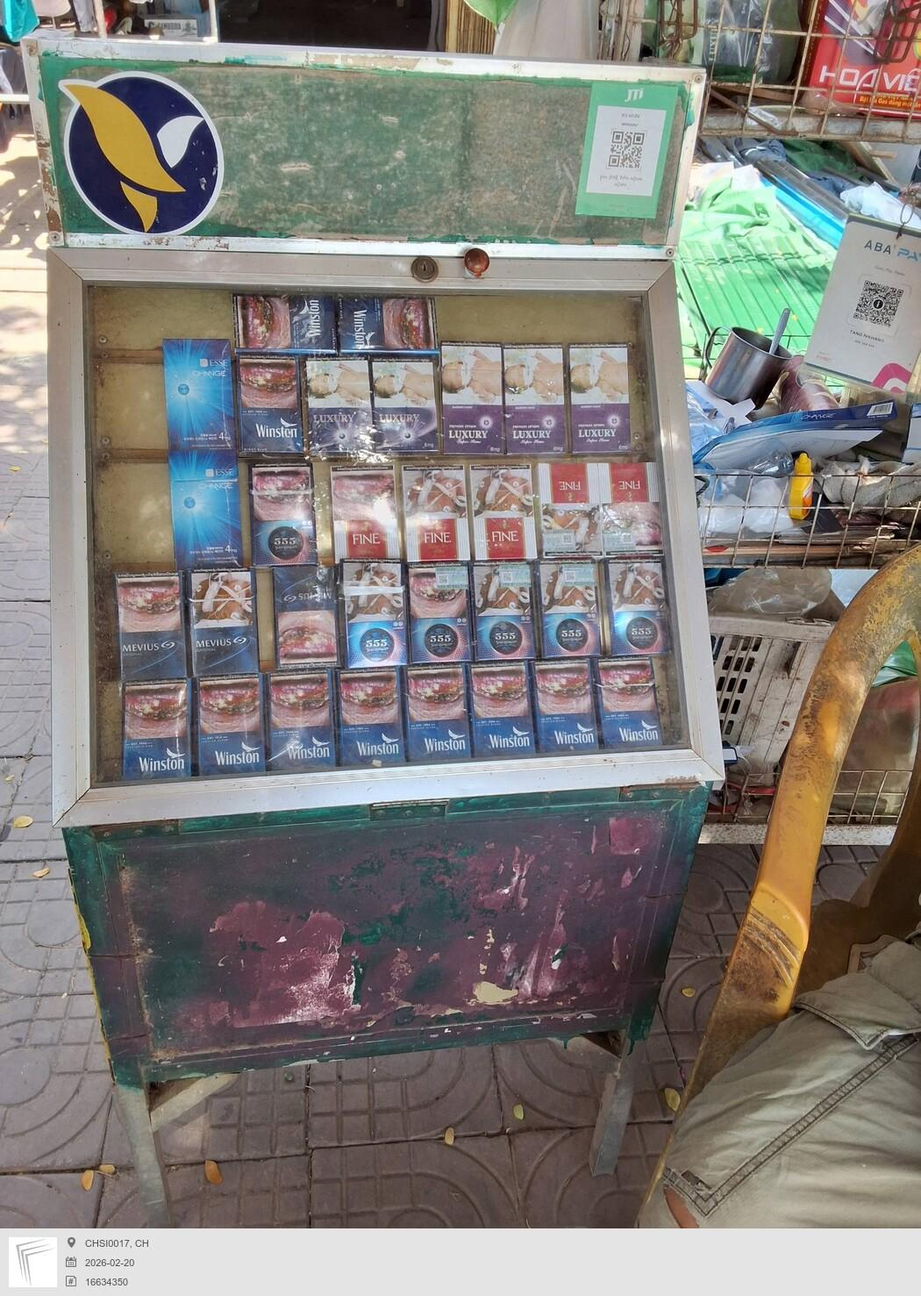cigarette_pack: (366, 352, 446, 462), (173, 451, 246, 566), (165, 335, 236, 451), (442, 336, 508, 458), (500, 340, 569, 456), (188, 561, 257, 672), (250, 458, 321, 565), (267, 668, 337, 775), (565, 341, 627, 461), (326, 458, 400, 558), (197, 671, 268, 775), (273, 561, 342, 667), (401, 460, 471, 564), (122, 682, 197, 779), (301, 353, 375, 450), (470, 556, 532, 667), (117, 574, 183, 677), (341, 558, 403, 666), (531, 557, 596, 656), (470, 461, 531, 565), (340, 665, 402, 767), (465, 663, 525, 766), (234, 356, 300, 447), (407, 563, 465, 666), (336, 297, 438, 355), (600, 656, 659, 755), (539, 458, 598, 557), (600, 557, 659, 654), (236, 297, 333, 356), (405, 670, 463, 768), (534, 661, 588, 758), (601, 460, 657, 553)
